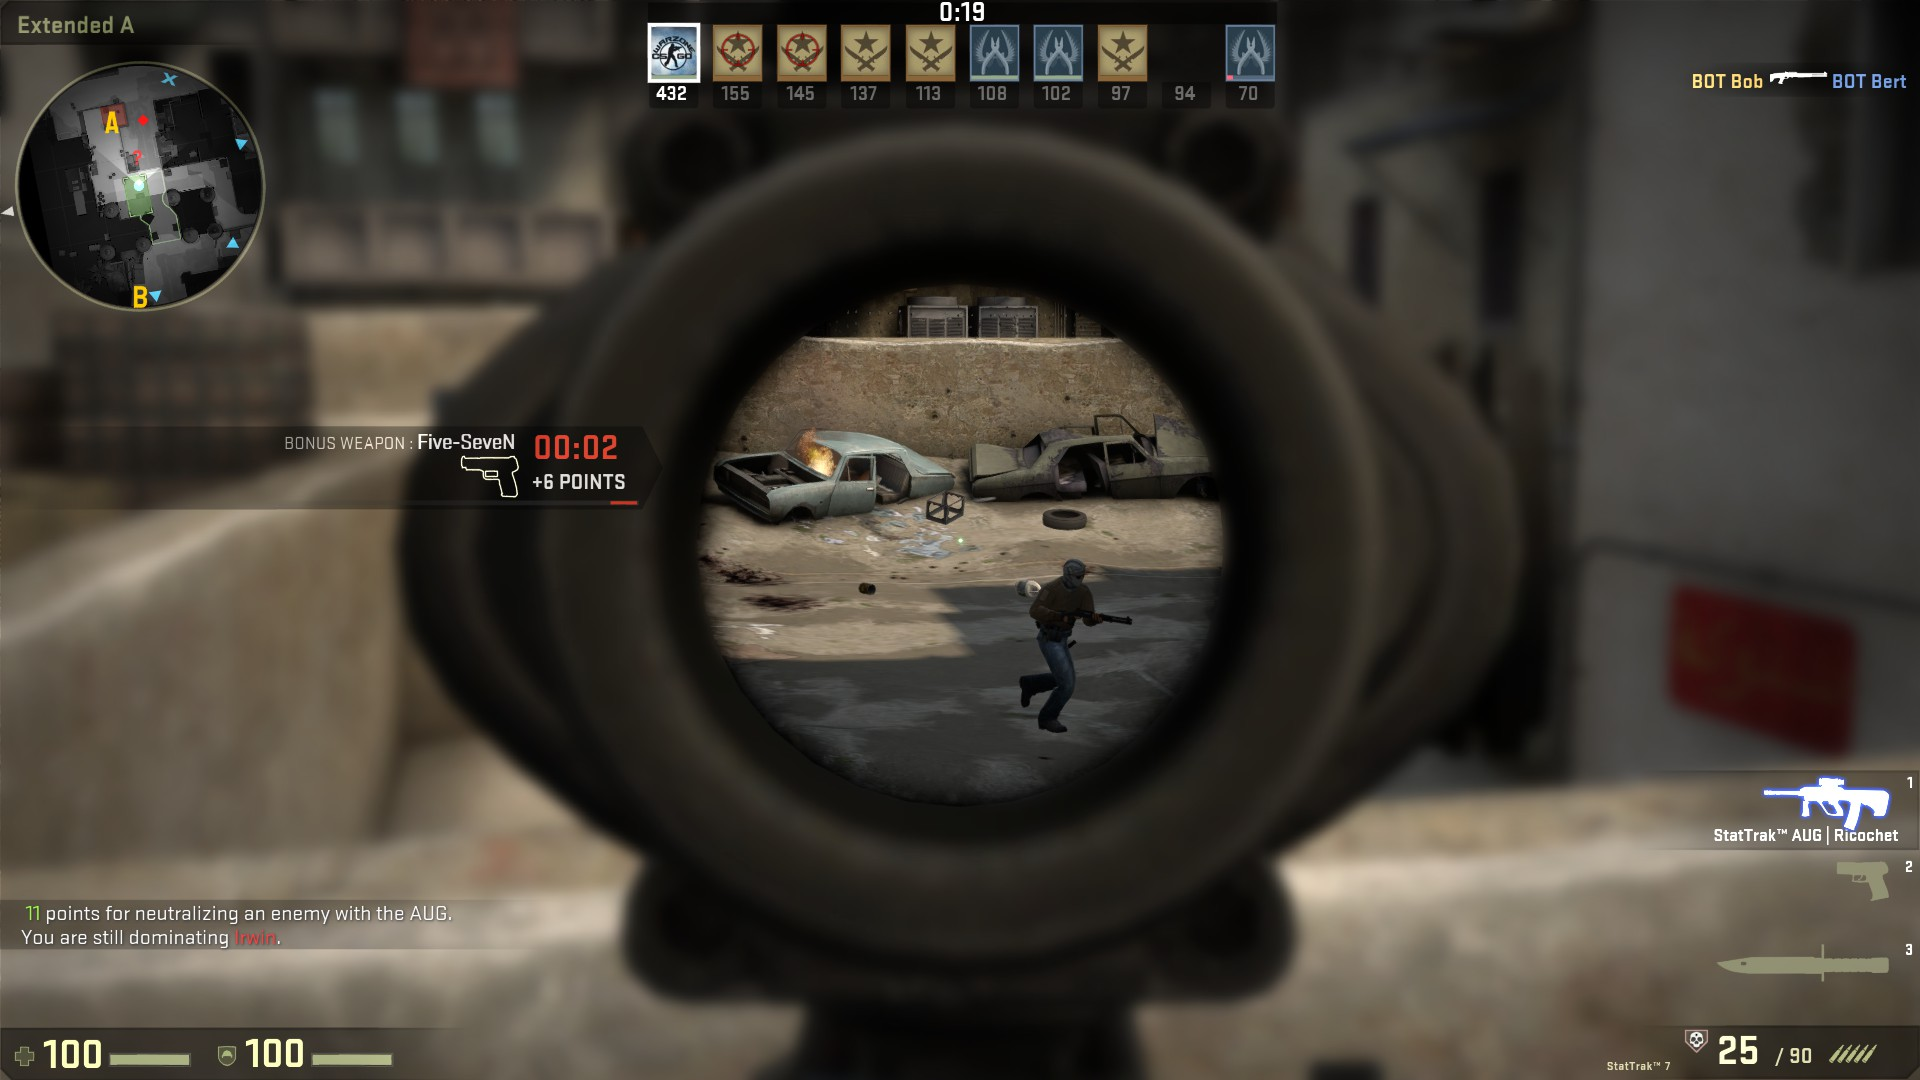t: (1033, 558, 1092, 732)
th: (1059, 556, 1091, 592)
